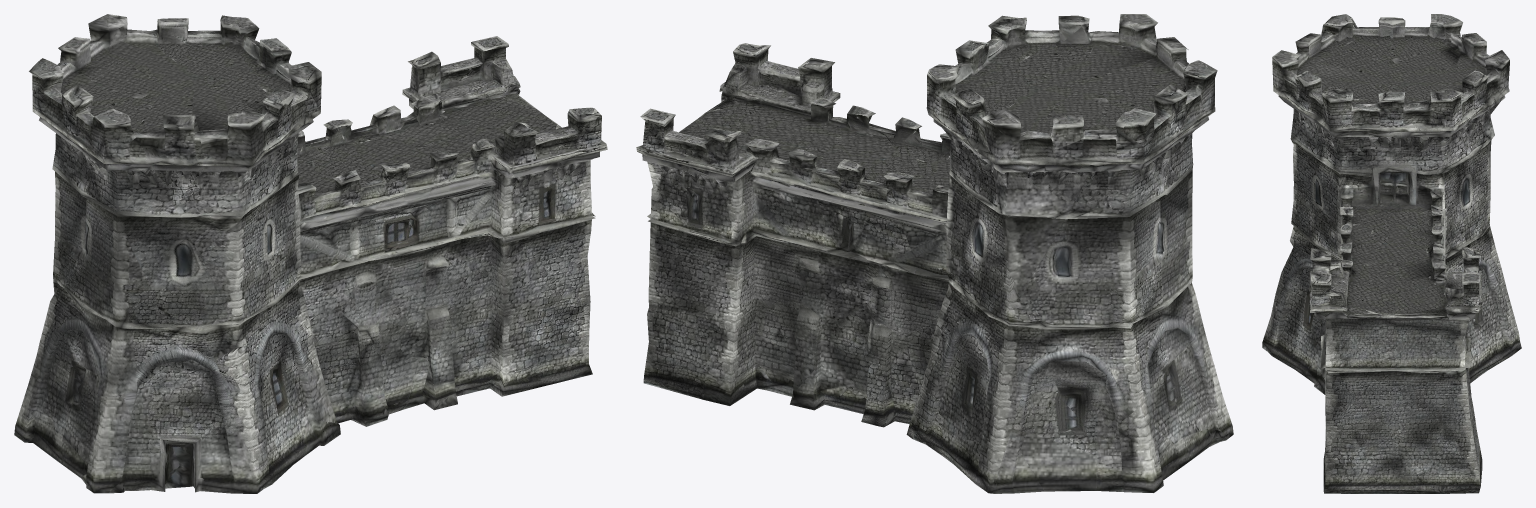
Rendered from keep_fortress.glb.
3 views of the same model, side by side, from view 1: azimuth 30°, elevation 25°; view 2: azimuth 150°, elevation 25°; view 3: azimuth 270°, elevation 25° (orthographic). The views are drawn at different scales.
Parts seen in each view (by area): view 1: keep_fortress; view 2: keep_fortress; view 3: keep_fortress.
Part boxes in pixels (x1,y1,x2,y2): keep_fortress: [14, 14, 607, 493]; keep_fortress: [636, 14, 1233, 493]; keep_fortress: [1262, 14, 1521, 493].
Size of the model in its own units: 1.9 by 1.32 by 1.07.
1 material, 1 textured.
